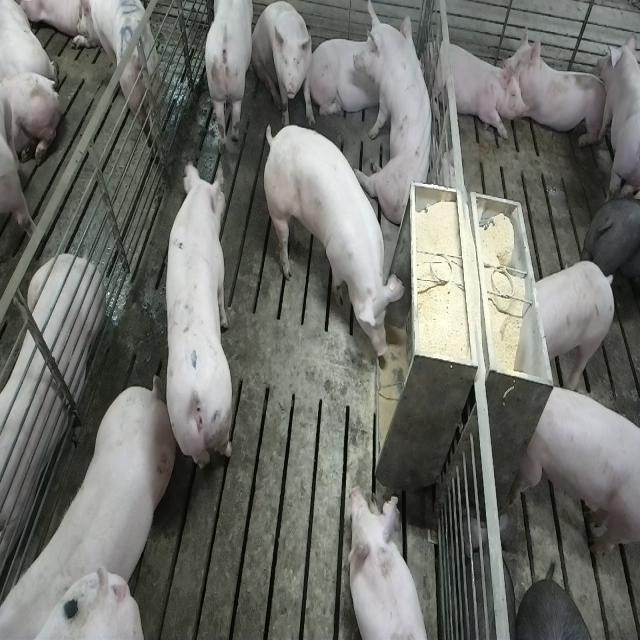Feeding: (268, 126, 411, 374)
Sitting: (360, 6, 440, 230), (252, 1, 315, 124)
Standing: (163, 158, 234, 478), (519, 382, 639, 566), (534, 260, 618, 394), (106, 2, 164, 153), (202, 2, 256, 154), (599, 31, 640, 200), (585, 191, 640, 305)
Sternal_lying: (0, 249, 102, 579), (503, 23, 607, 147), (348, 486, 431, 640), (310, 23, 426, 127), (426, 31, 524, 141)
